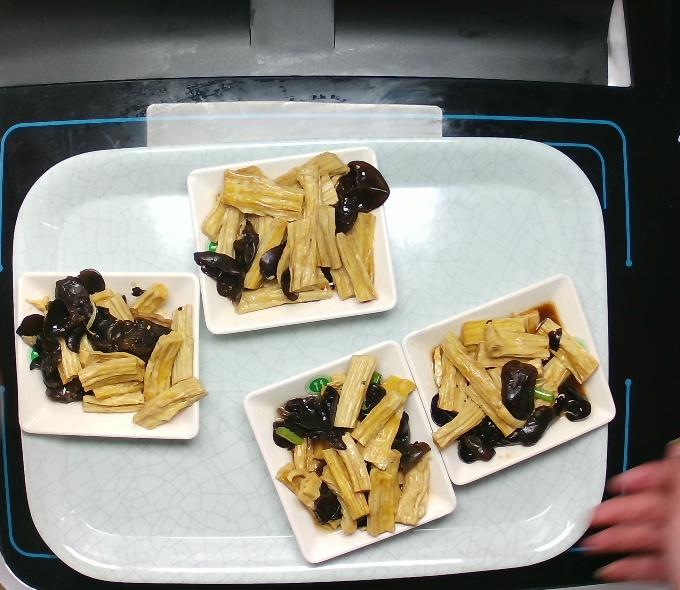wcq-MuErFuZhu: (262, 349, 439, 541), (194, 149, 392, 314), (9, 270, 207, 435), (422, 300, 599, 473)
